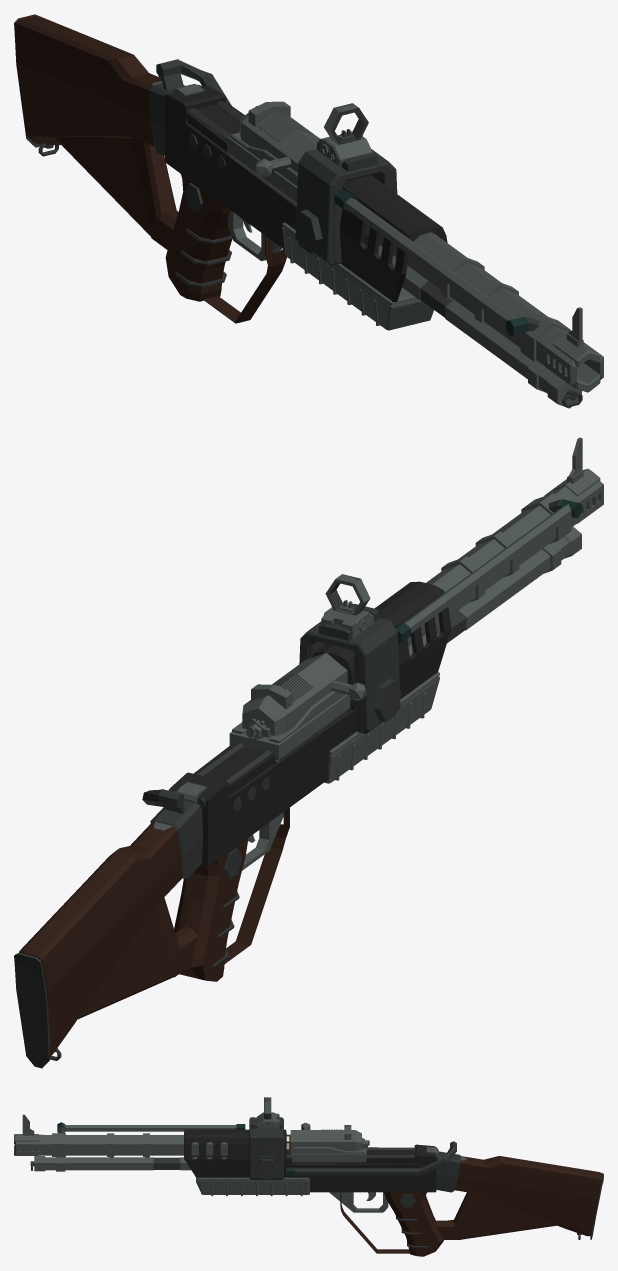
File: VassCarbine1.fbx
3 renders of one model, top to bottom at view 1: azimuth 30°, elevation 25°; view 2: azimuth 150°, elevation 25°; view 3: azimuth 270°, elevation 25°, orthographic. The views are drawn at different scales.
Visible parts, largest first — view 1: vass_carbine_Cube.062; view 2: vass_carbine_Cube.062; view 3: vass_carbine_Cube.062.
Part boxes in pixels (bbox=[...]): vass_carbine_Cube.062: bbox=[14, 14, 603, 408]; vass_carbine_Cube.062: bbox=[14, 437, 603, 1068]; vass_carbine_Cube.062: bbox=[14, 1097, 603, 1256].
Bounding box in the file's own units: 13.34 × 38.49 × 135.
